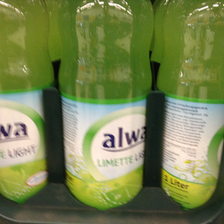soda: (58, 1, 154, 210), (157, 1, 224, 210), (1, 1, 55, 202)
